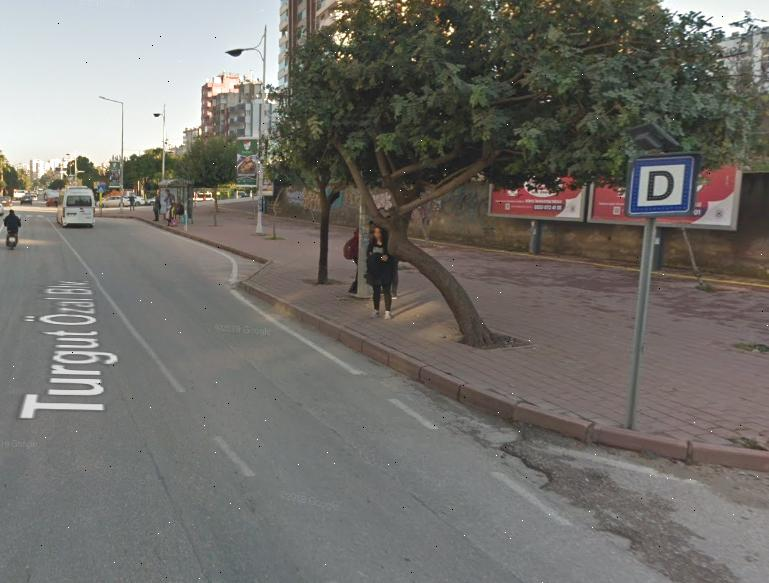station: (630, 156, 691, 214)
